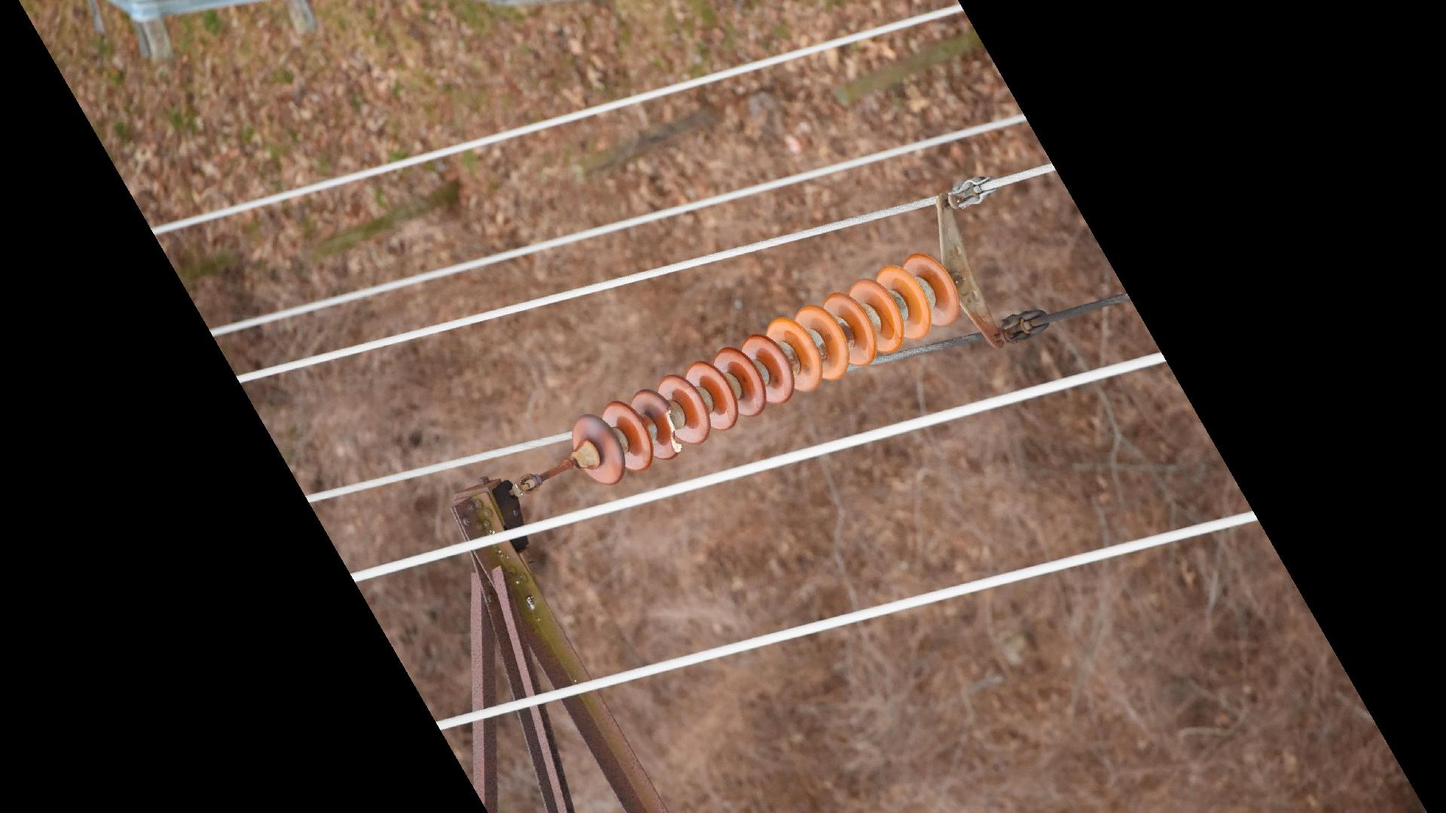insulator: (565, 248, 966, 486)
insulator_breakage: (659, 400, 686, 459)
